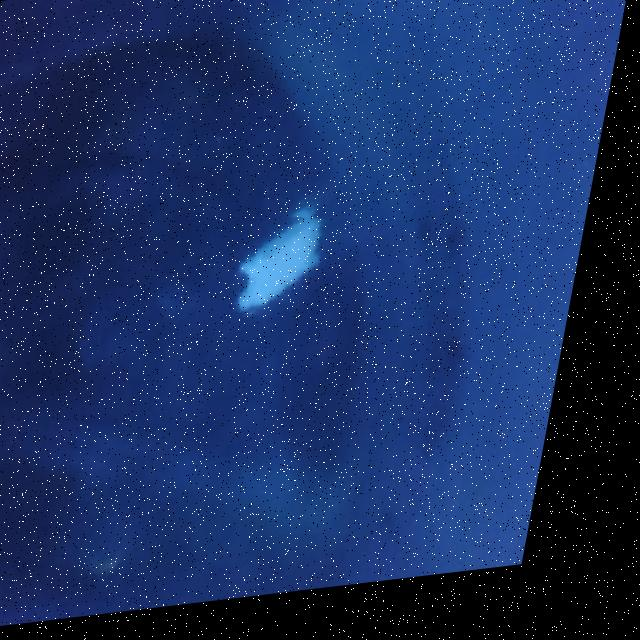litter: (229, 211, 353, 327)
